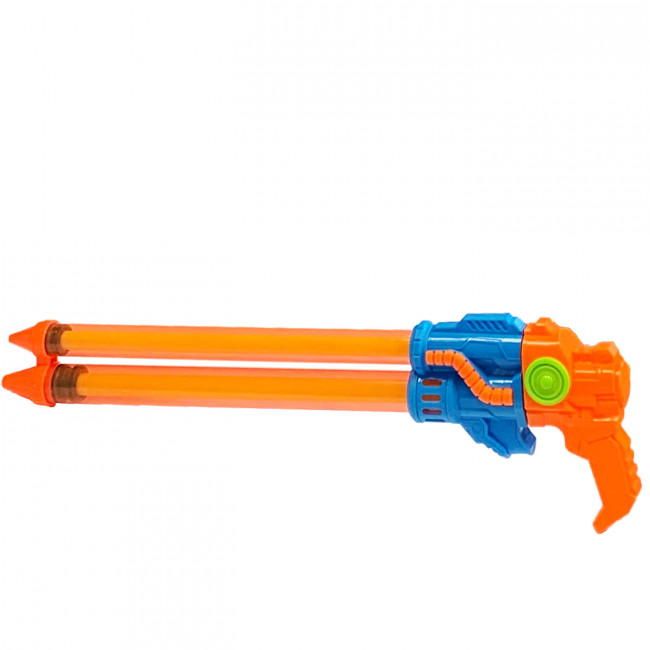Arma Falsa: (1, 313, 650, 534)
